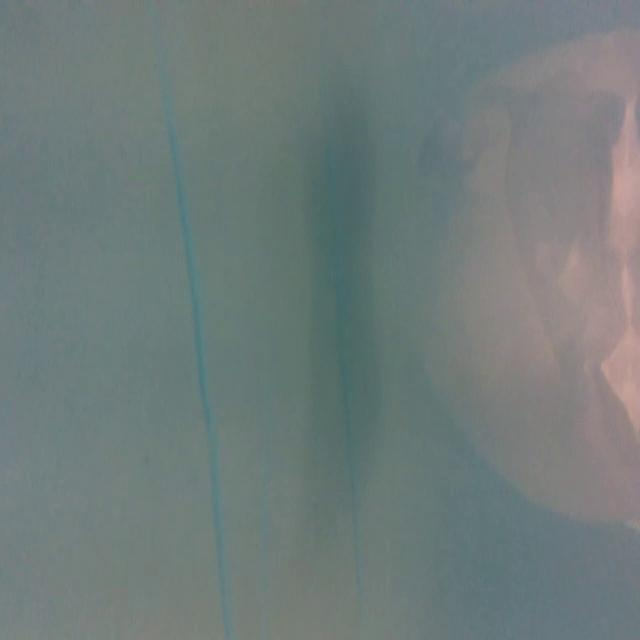plastic bags: (419, 49, 640, 544)
